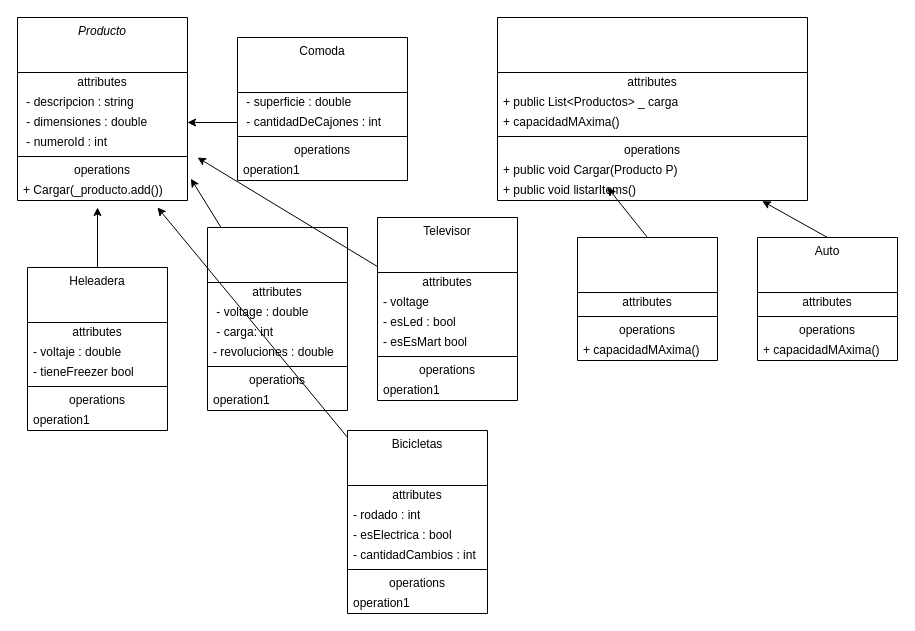
Image size: 915x631. Some labels were removed from this diagram. Here are the shapes that lost their labels. From the top down, the box of each, then its label:
(496, 16, 808, 200): Vehiculos
(206, 226, 348, 410): Lavarropa
(576, 236, 718, 360): Camioneta
